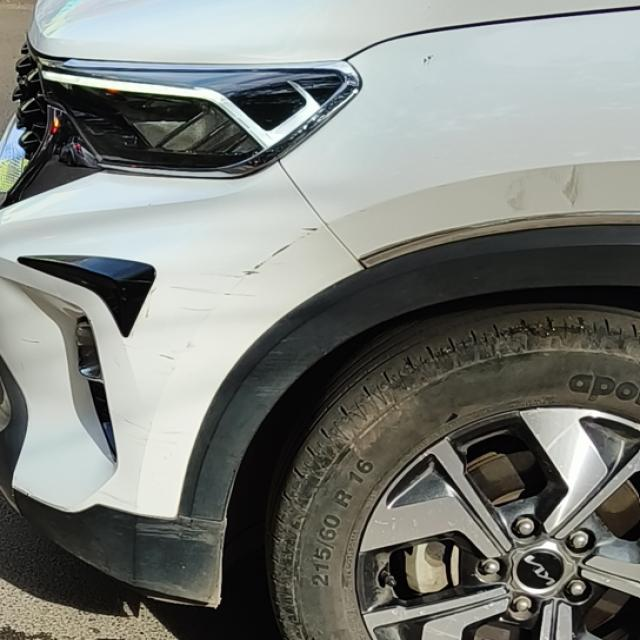scratch: (91, 411, 187, 515), (153, 281, 228, 386), (228, 223, 330, 296), (482, 158, 600, 210), (409, 45, 460, 82)
